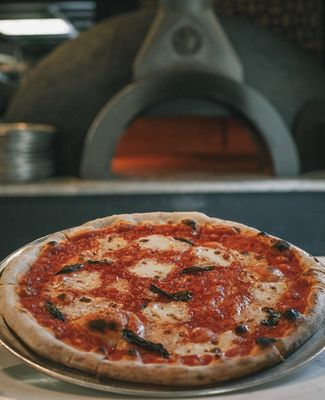sandwich: (4, 212, 324, 387)
